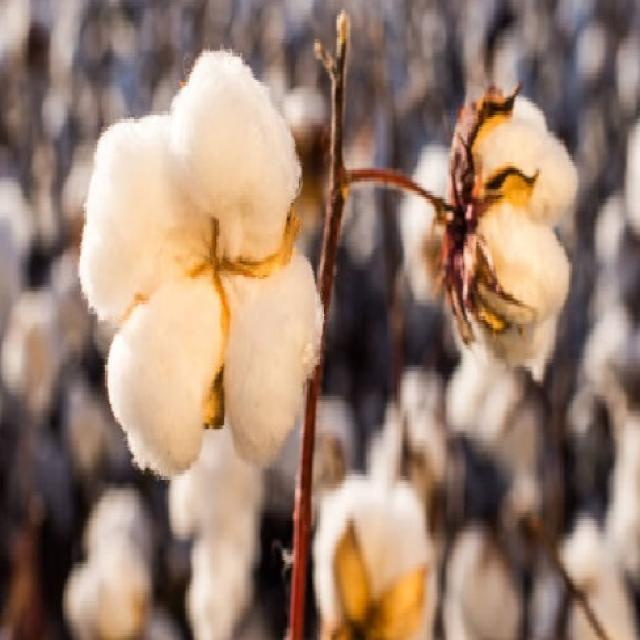Matured Cotton Boll: (85, 54, 328, 468), (445, 88, 575, 358), (313, 473, 449, 640), (169, 426, 264, 639)
